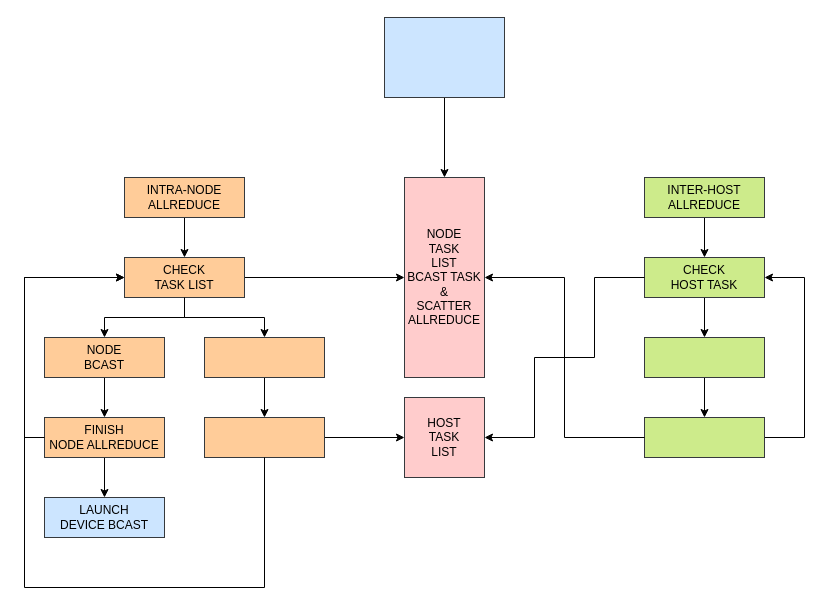
The diagram is 830 pixels wide and 613 high, and some of its shapes have lost their labels. Here are the shapes that lost their labels. From the top down, the centre of each, then its label:
(444,57): FINISH DEVICE ALLREDUCE ADD NODE TASK
(264,357): SCATTER ALLREDUCE
(704,357): HOST ALLREDCUE
(264,437): ADD HOST ALLREDUCE TASK
(704,437): ADD DEVICE BCAST TASK
